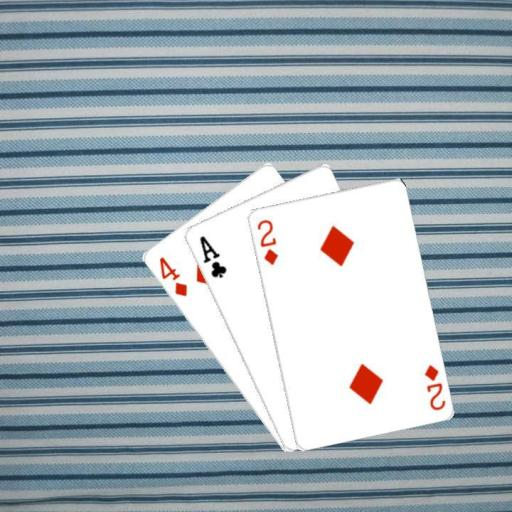2D: (253, 215, 280, 266), (420, 361, 447, 412)
4D: (155, 253, 188, 298)
AC: (196, 232, 228, 279)
